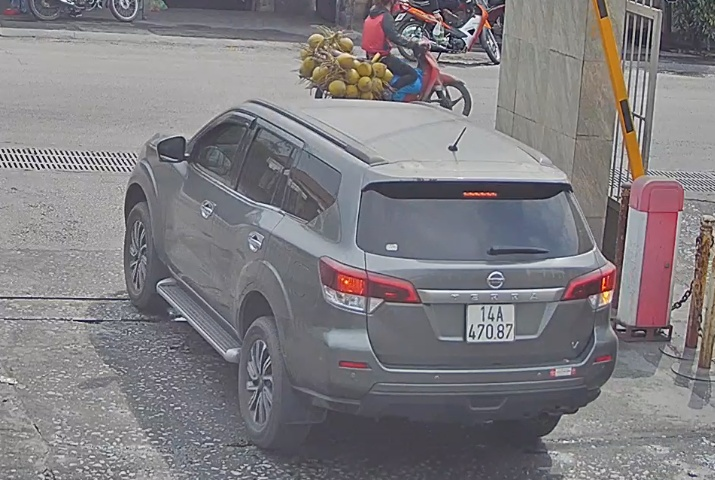vehicle plate: (461, 296, 519, 346)
